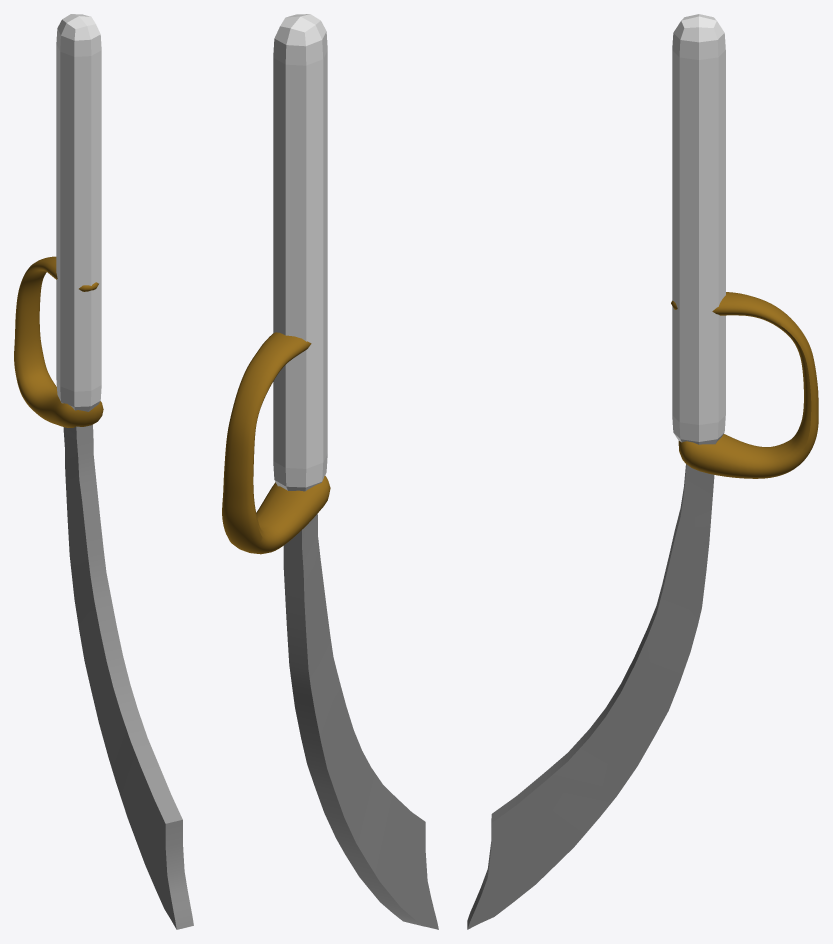
The model's file is EspadaPirata.fbx.
The picture shows the model from 3 angles, left to right: view 1: azimuth 30°, elevation 25°; view 2: azimuth 150°, elevation 25°; view 3: azimuth 270°, elevation 25°; orthographic projection. The views are drawn at different scales.
Parts seen in each view (by area): view 1: Cube.002, Cube, Cube.001; view 2: Cube, Cube.002, Cube.001; view 3: Cube.002, Cube, Cube.001.
Boxes of the visible parts, x1,y1,x2,y2 form: Cube.002: (63, 424, 193, 929); Cube: (56, 14, 101, 411); Cube.001: (14, 256, 103, 427); Cube: (273, 14, 327, 491); Cube.002: (283, 514, 438, 929); Cube.001: (222, 332, 330, 554); Cube.002: (467, 464, 714, 929); Cube: (672, 14, 725, 444); Cube.001: (671, 292, 818, 478).
Bounding box in the file's own units: 81.9 × 1495 × 524.
